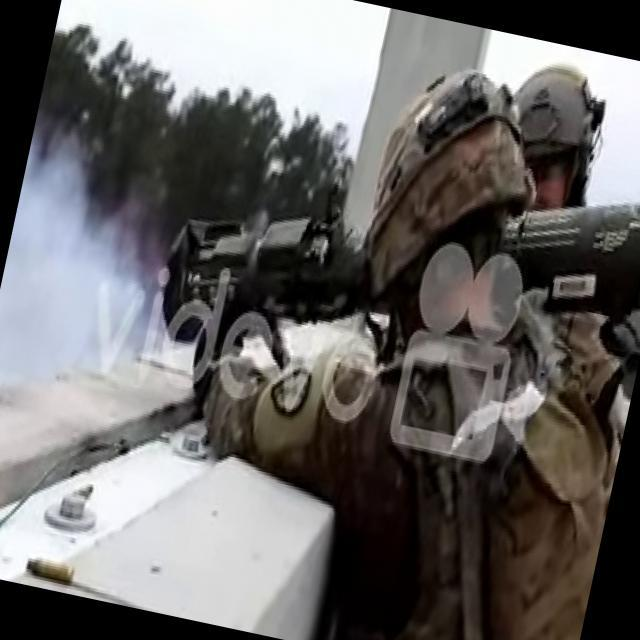rocket: (155, 105, 640, 407)
